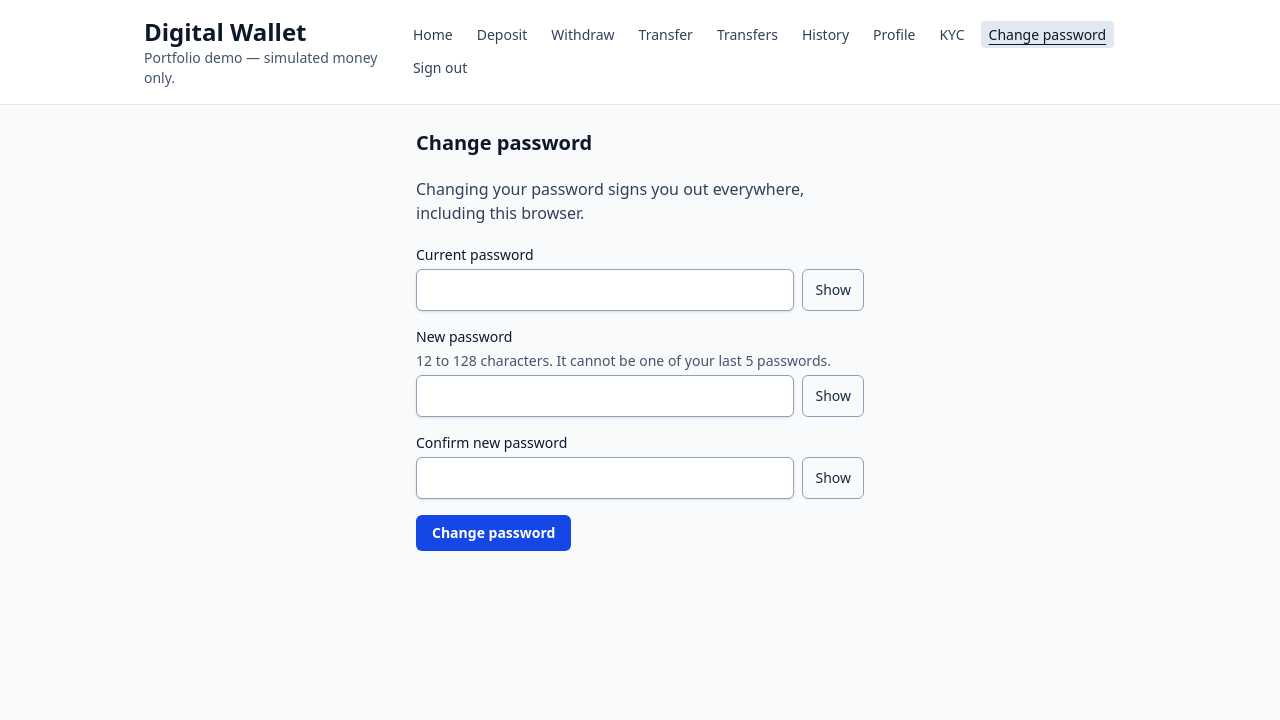
ChangePasswordPage › shows "Current password is incorrect" on 401 and never refreshes
Type "the old passphrase" into the password field labelled "Current password" at (605, 290), box [416,269,794,311]
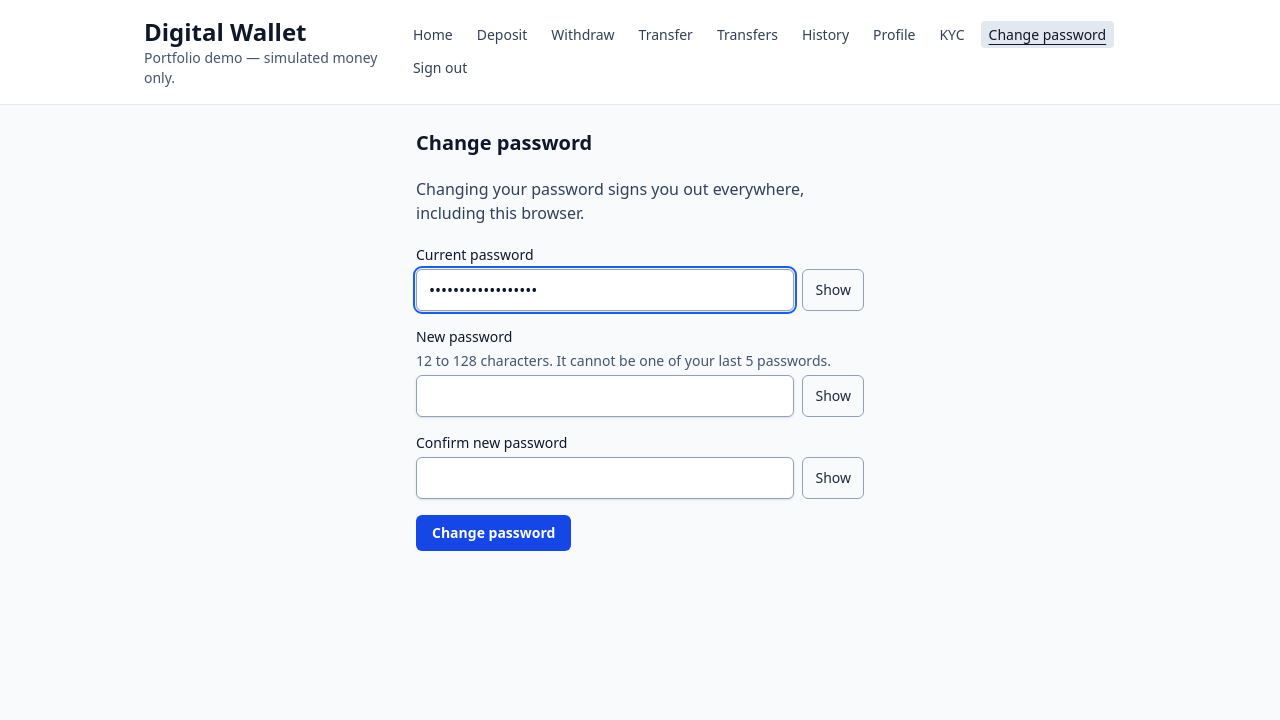
Type "a brand new passphrase" into the password field labelled "New password" at (605, 396), box [416,375,794,417]
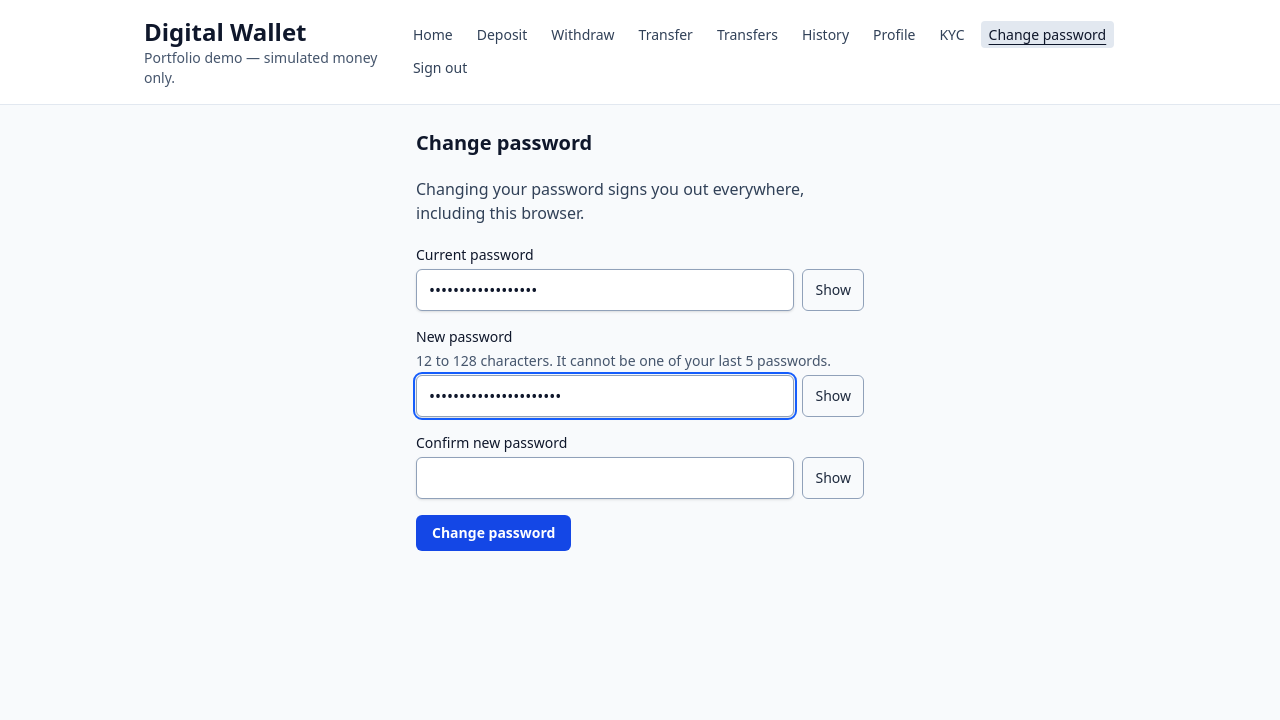
Type "a brand new passphrase" into the password field labelled "Confirm new password" at (605, 478), box [416,457,794,499]
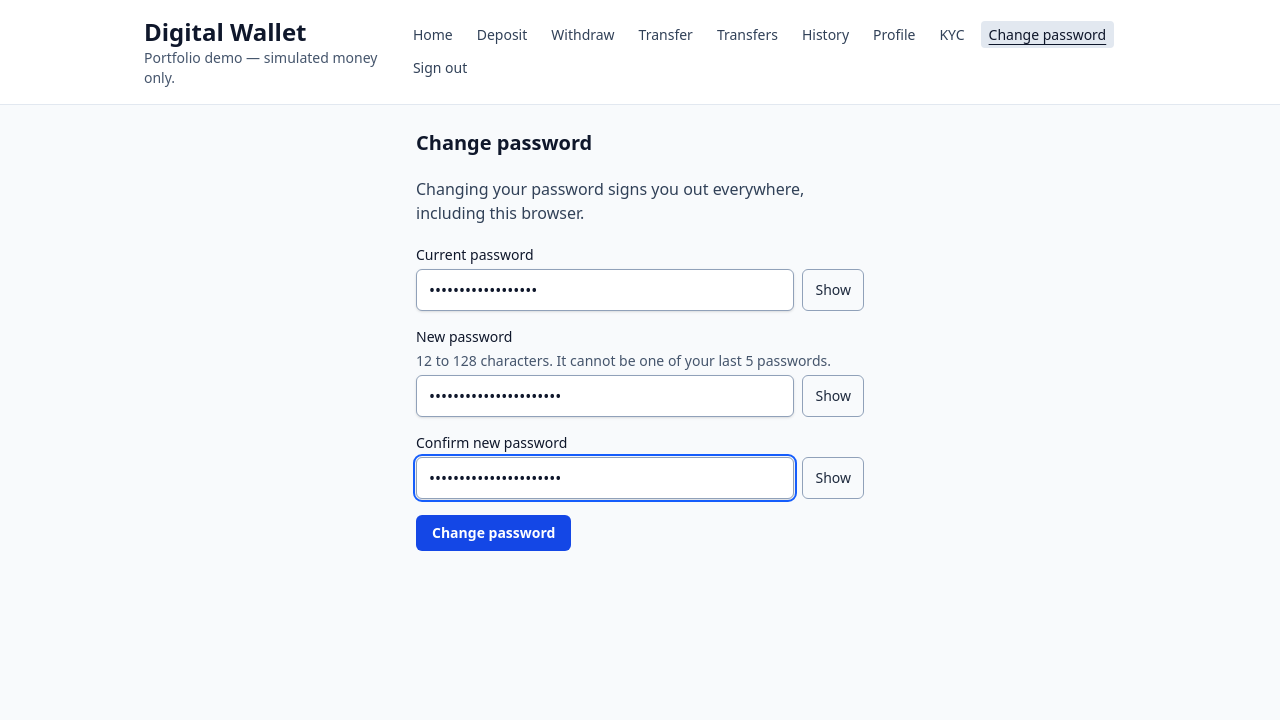
Click the button "Change password" at (494, 533), box [416,515,571,551]
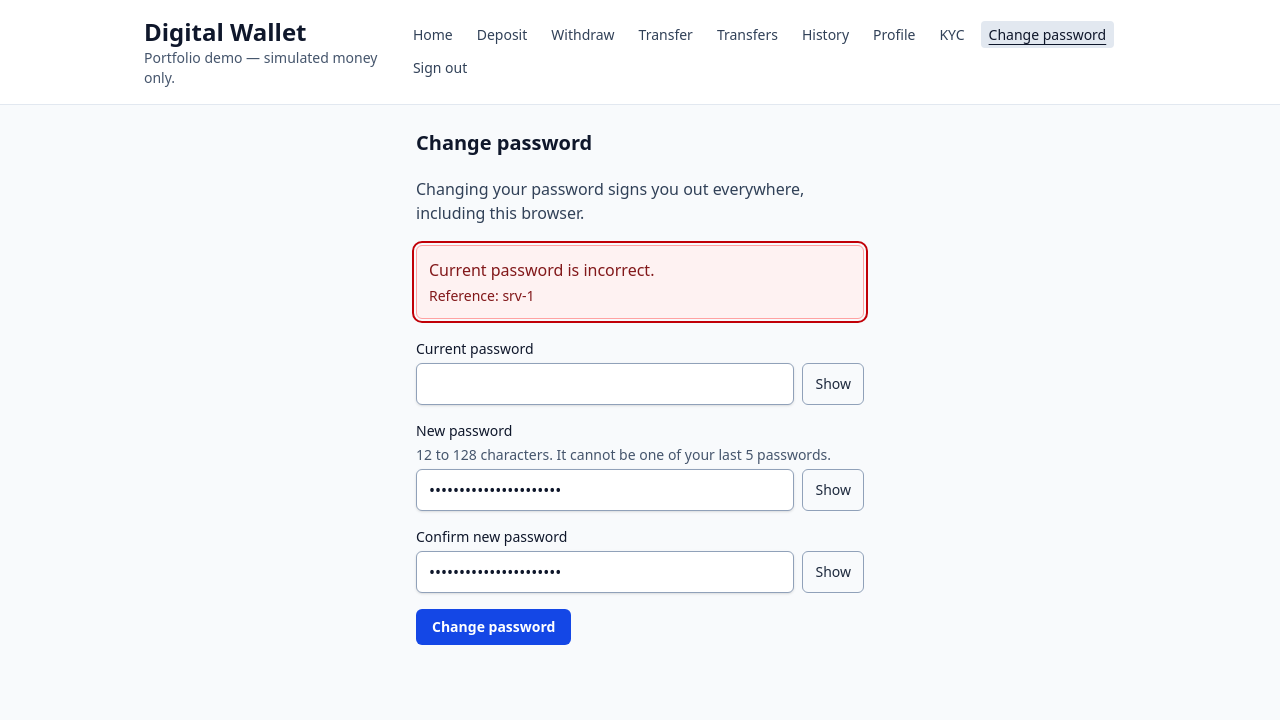
Expected: the message shows "Current password is incorrect.", [429,259,654,281]
Expected: the message shows "Reference: srv-1", [416,245,864,319]
Expected: the password field labelled "Current password" is empty, [416,363,794,405]
